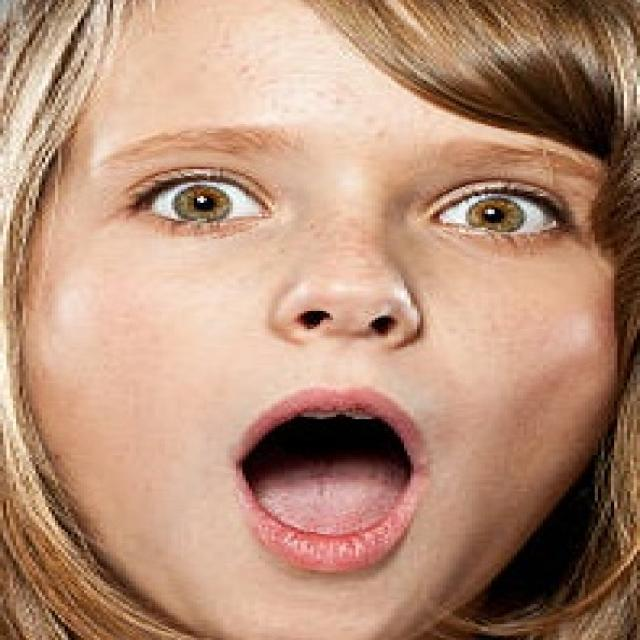Anxiety: (17, 3, 633, 638)
